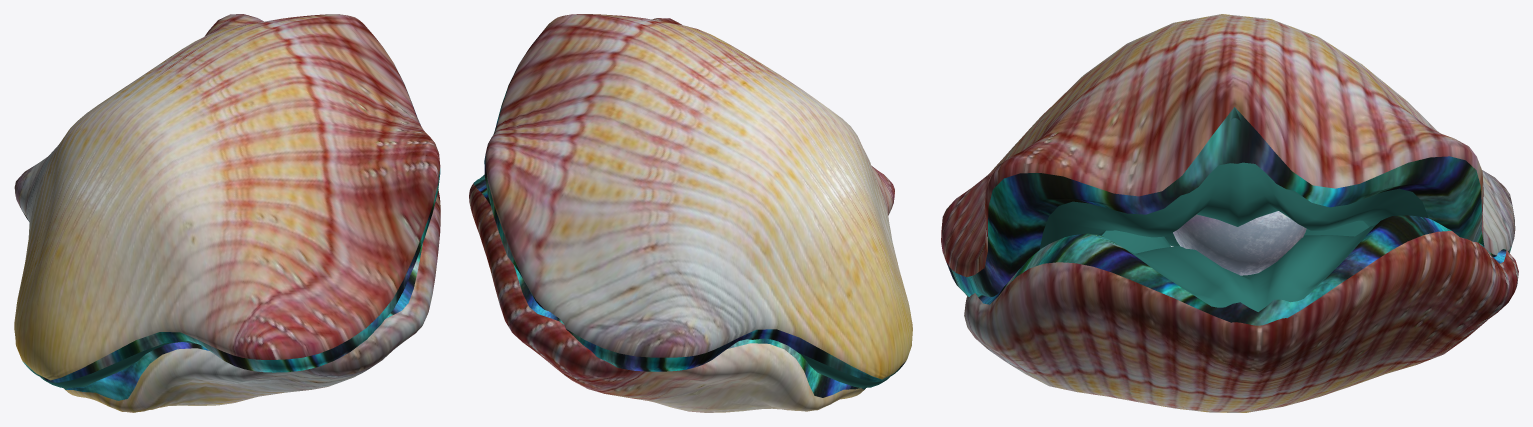
File: clam.gltf
The picture shows the model from 3 angles, left to right: view 1: azimuth 30°, elevation 25°; view 2: azimuth 150°, elevation 25°; view 3: azimuth 270°, elevation 25°; orthographic projection. The views are drawn at different scales.
Parts seen in each view (by area): view 1: Object_3, Object_4, Object_5, Object_6; view 2: Object_3, Object_4, Object_5, Object_6; view 3: Object_4, Object_3, Object_5, Object_6, Object_2.
Boxes of the visible parts, x1,y1,x2,y2 form: Object_3: (14, 14, 440, 380); Object_4: (63, 189, 440, 412); Object_5: (21, 74, 440, 400); Object_6: (27, 341, 195, 389); Object_3: (485, 14, 912, 379); Object_4: (469, 183, 865, 412); Object_5: (473, 35, 905, 397); Object_6: (479, 175, 901, 389); Object_4: (964, 231, 1518, 412); Object_3: (941, 14, 1515, 277); Object_5: (946, 107, 1511, 325); Object_6: (1039, 162, 1428, 311); Object_2: (1173, 211, 1306, 275).
Size of the model in its own units: 2.09 by 1.75 by 2.2.
Materials: 4 (3 with a texture image).
